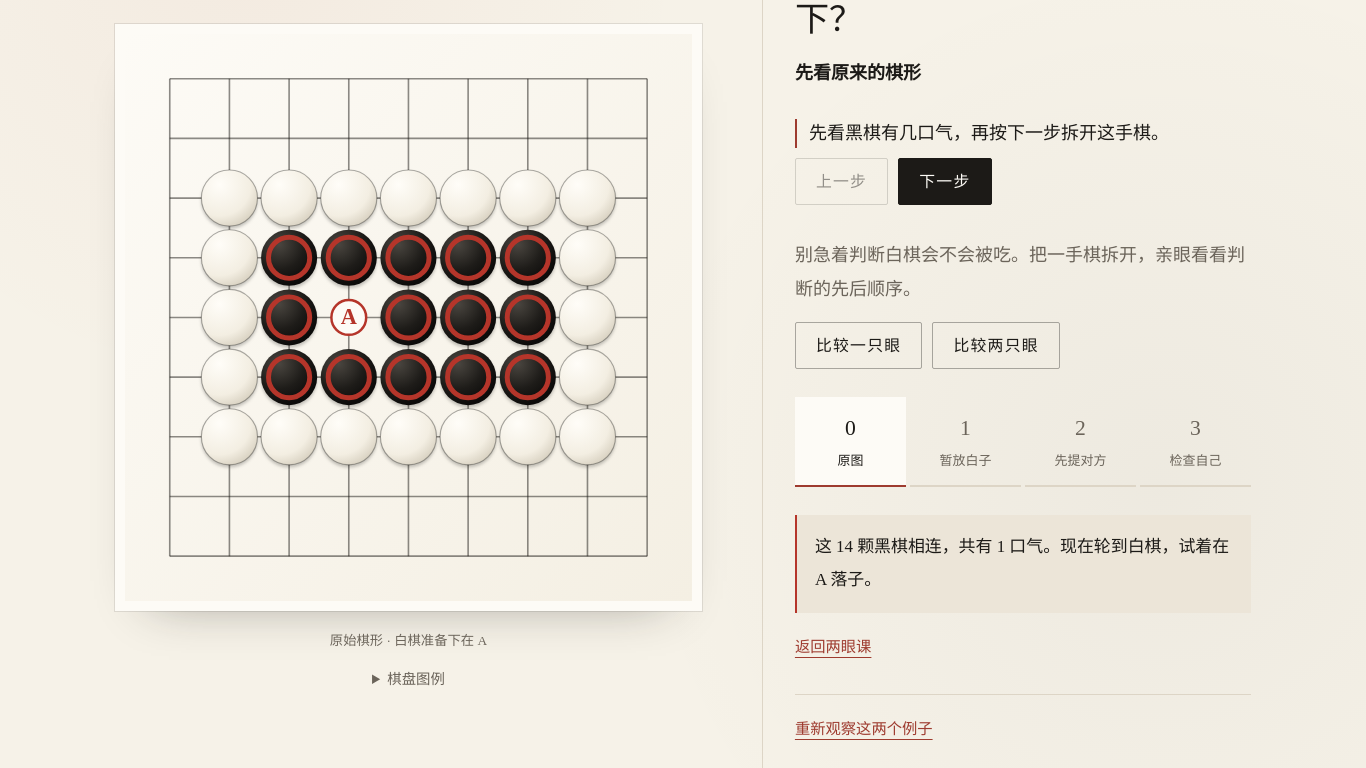
Test: 规则慢镜头与终局课程界面 › 从两眼课进入慢镜头，返回后保留两眼题进度；重来仅重置当前课
Earlier steps of the test are not shown.
Later steps or results of the test are not shown.
(page scrolled)
Click the button "返回两眼课". click: click(833, 648)
box: [795, 629, 871, 666]
(page scrolled)
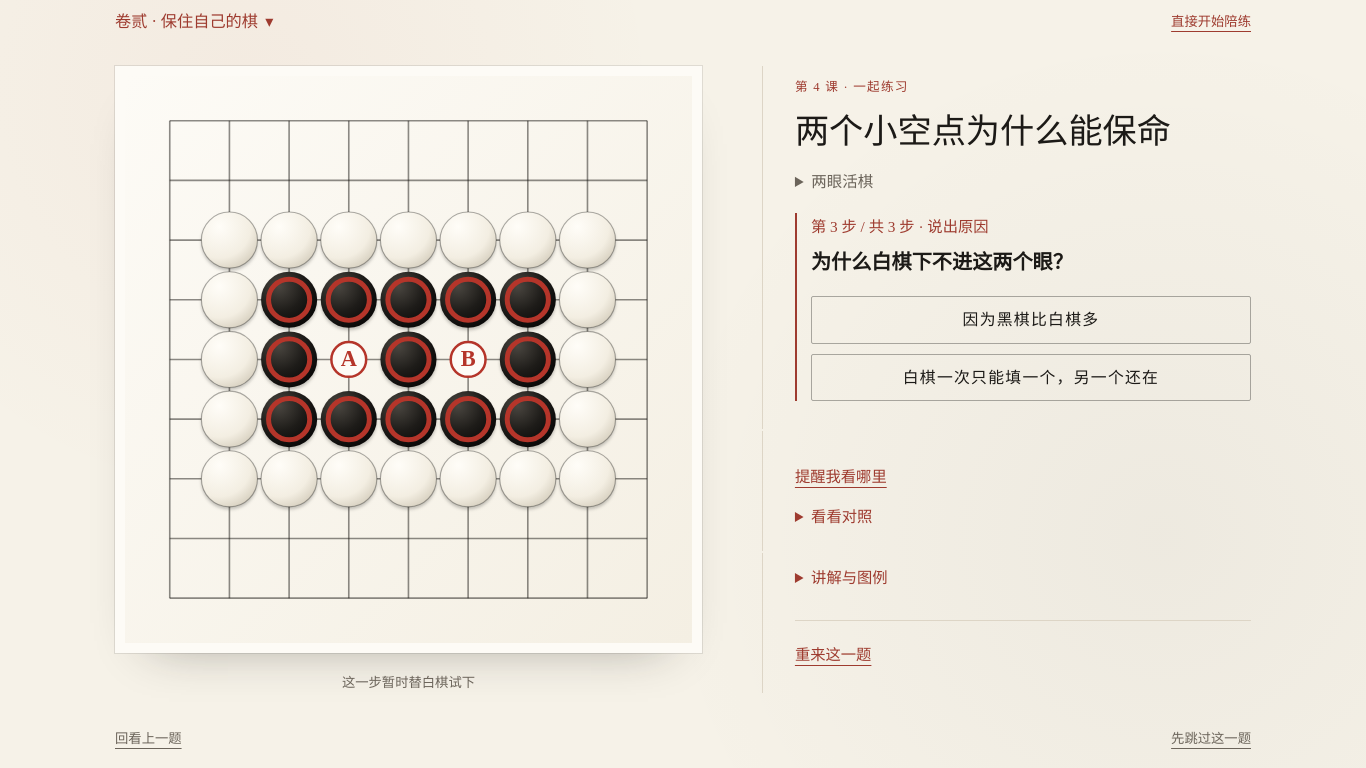
Result: the text "为什么白棋下不进这两个眼？" is shown at [811, 251, 1073, 273]
